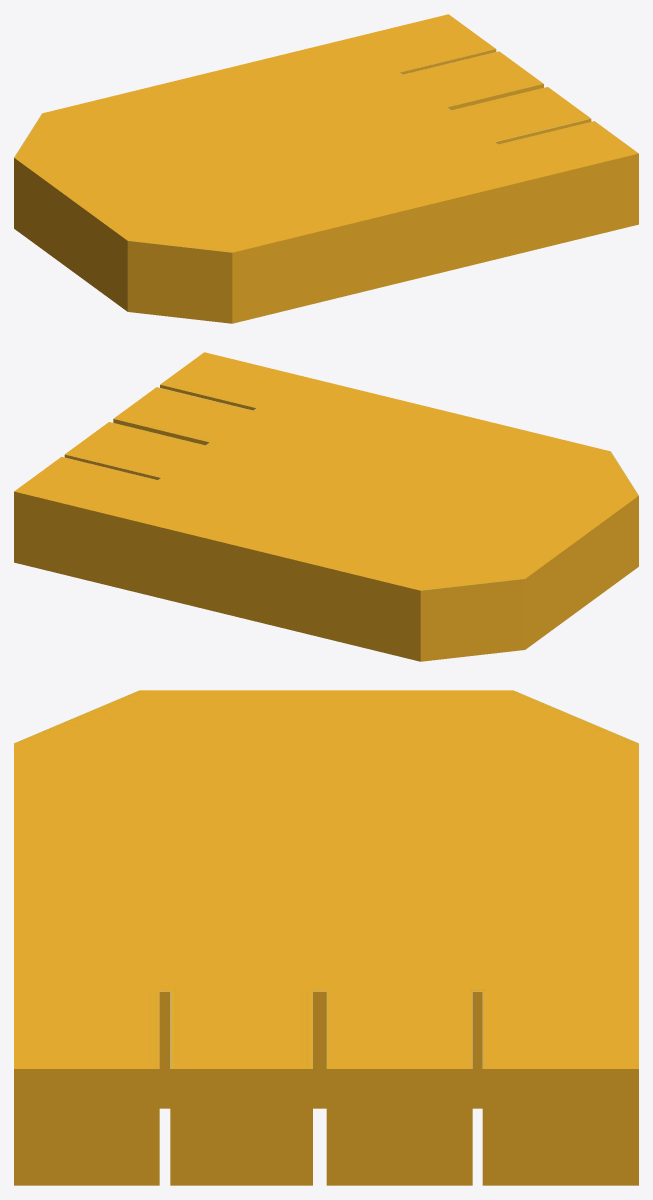
File: HandBase.dae
The picture shows the model from 3 angles, top to bottom: view 1: azimuth 30°, elevation 25°; view 2: azimuth 150°, elevation 25°; view 3: azimuth 270°, elevation 25°; orthographic projection. The views are drawn at different scales.
Visible parts, largest first — view 1: SketchUp (×4); view 2: SketchUp (×4); view 3: SketchUp (×8).
Part boxes in pixels (x1,y1,x2,y2): SketchUp (×4): [14, 14, 638, 323]; SketchUp (×4): [14, 352, 638, 661]; SketchUp (×8): [14, 690, 638, 1185].
Size of the model in its own units: 3.98 by 2.77 by 0.5709.
Materials: 20 (20 with a texture image).
